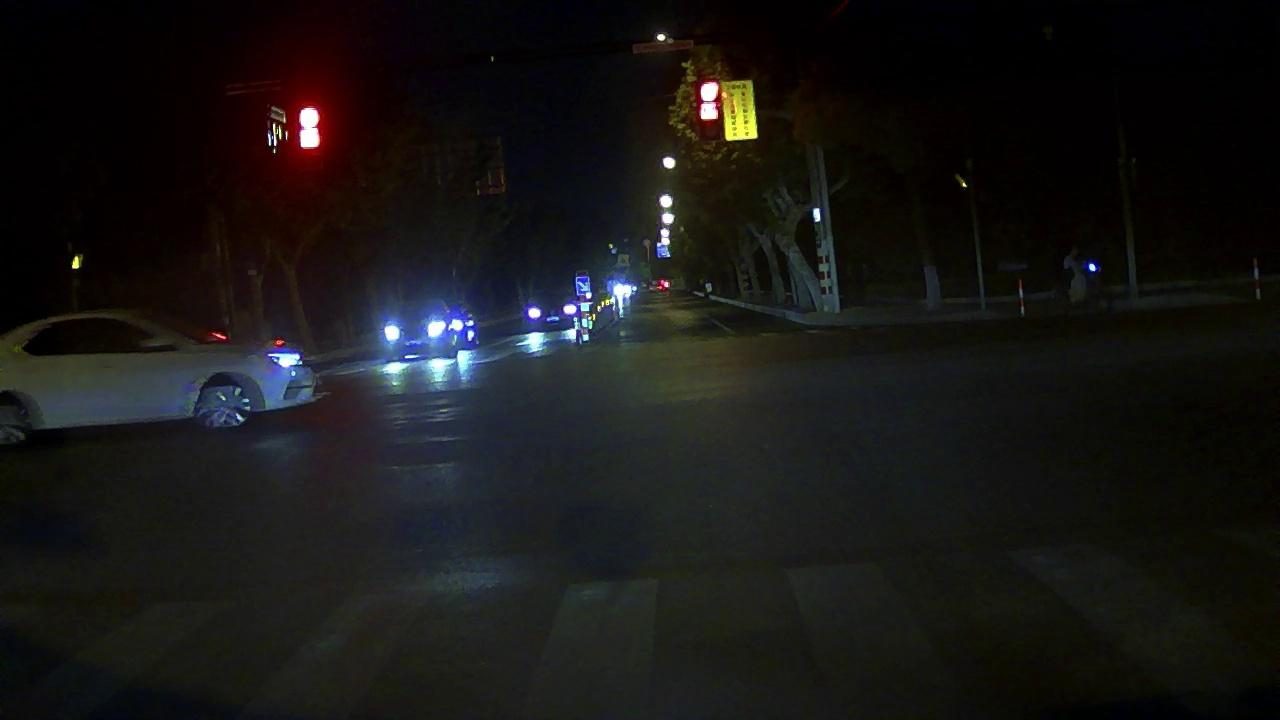traffic_light: (297, 100, 326, 155), (698, 75, 724, 126)
